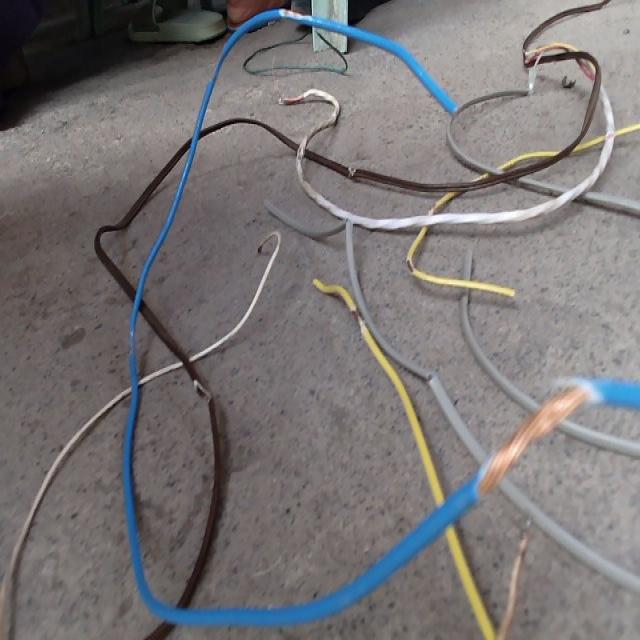-: (472, 374, 595, 502), (191, 377, 212, 407), (279, 7, 310, 20), (351, 307, 364, 333), (405, 256, 415, 273)
